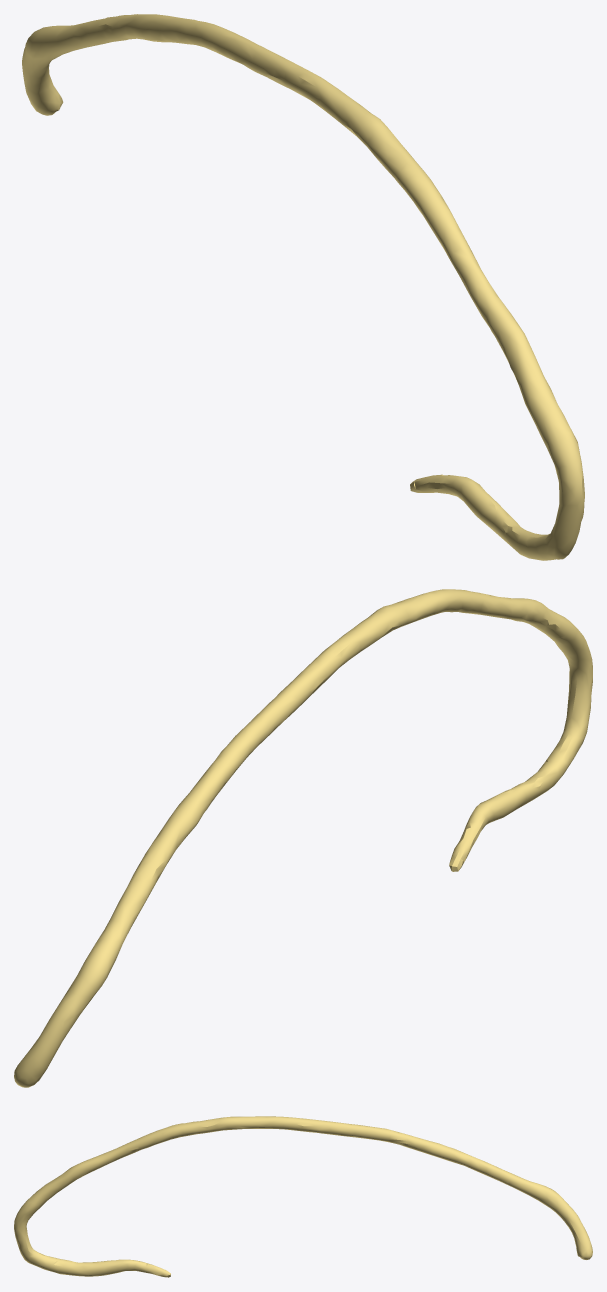
File: fma72944_mm3008.glb
3 renders of one model, top to bottom at view 1: azimuth 30°, elevation 25°; view 2: azimuth 150°, elevation 25°; view 3: azimuth 270°, elevation 25°, orthographic. The views are drawn at different scales.
Visible parts, largest first — view 1: FMA72944_MM3008; view 2: FMA72944_MM3008; view 3: FMA72944_MM3008.
Part boxes in pixels (x1=…): FMA72944_MM3008: x1=22, y1=14, x2=584, y2=560; FMA72944_MM3008: x1=14, y1=589, x2=592, y2=1087; FMA72944_MM3008: x1=14, y1=1116, x2=592, y2=1277.
Size of the model in its own units: 0.00555 by 0.0251 by 0.0803.
